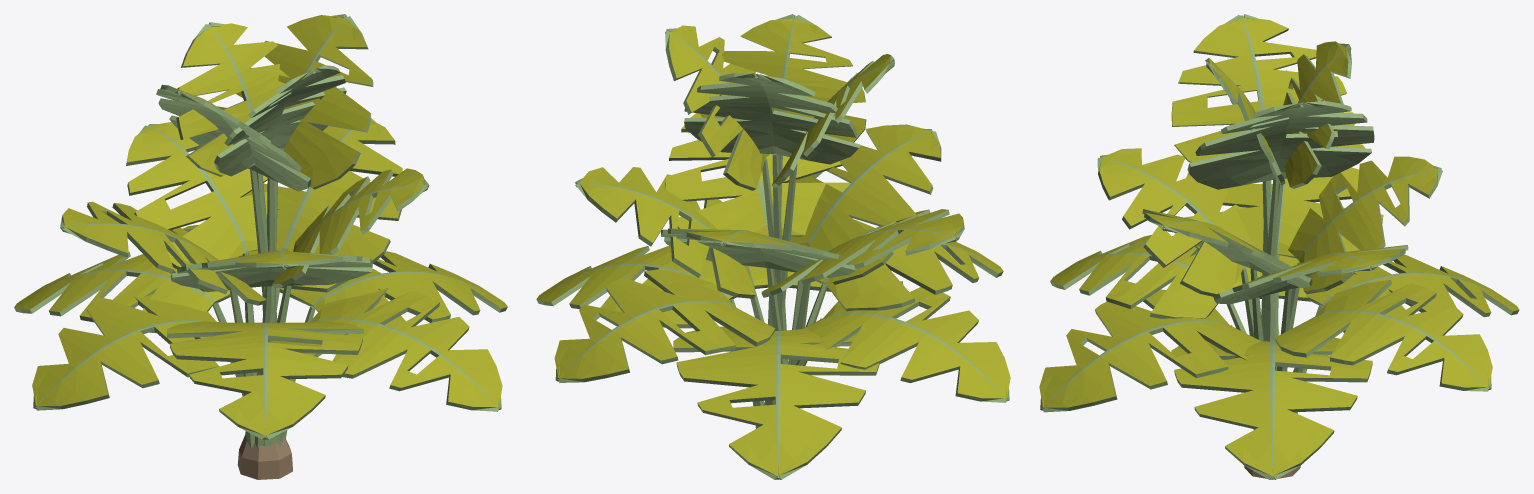
The model's file is monsteraClump.glb.
3 renders of one model, left to right at view 1: azimuth 30°, elevation 25°; view 2: azimuth 150°, elevation 25°; view 3: azimuth 270°, elevation 25°, orthographic.
Visible parts, largest first — view 1: monsteraClump; view 2: monsteraClump; view 3: monsteraClump.
Part boxes in pixels (x1,y1,x2,y2): monsteraClump: [14, 14, 507, 479]; monsteraClump: [536, 14, 1010, 479]; monsteraClump: [1039, 14, 1519, 479].
Size of the model in its own units: 4.5 by 3.85 by 4.05.
Materials: 1 (1 with a texture image).
